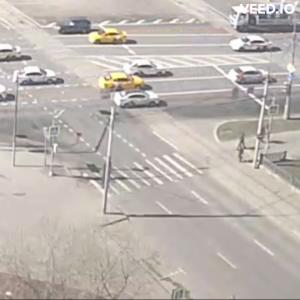car: (115, 91, 169, 111), (101, 71, 148, 91), (126, 61, 174, 79), (17, 67, 61, 86), (231, 36, 276, 53), (91, 29, 133, 46), (61, 19, 93, 37), (235, 69, 266, 86), (1, 45, 23, 63)
